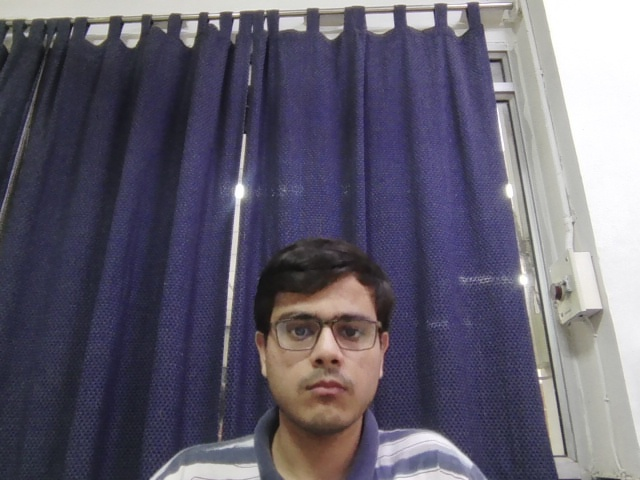face: (254, 238, 391, 433)
